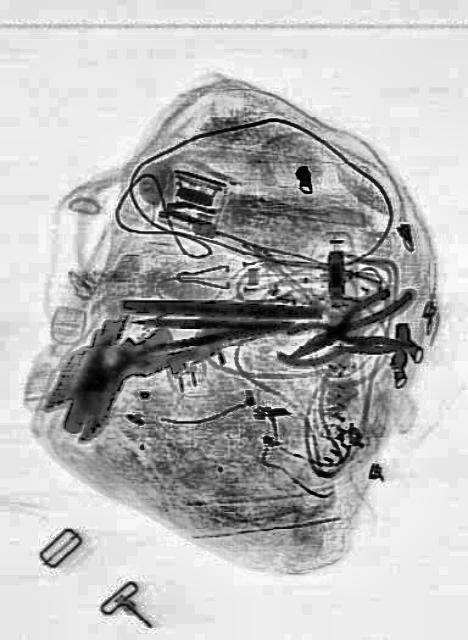Pliers: (286, 270, 412, 370), (275, 321, 410, 365)
